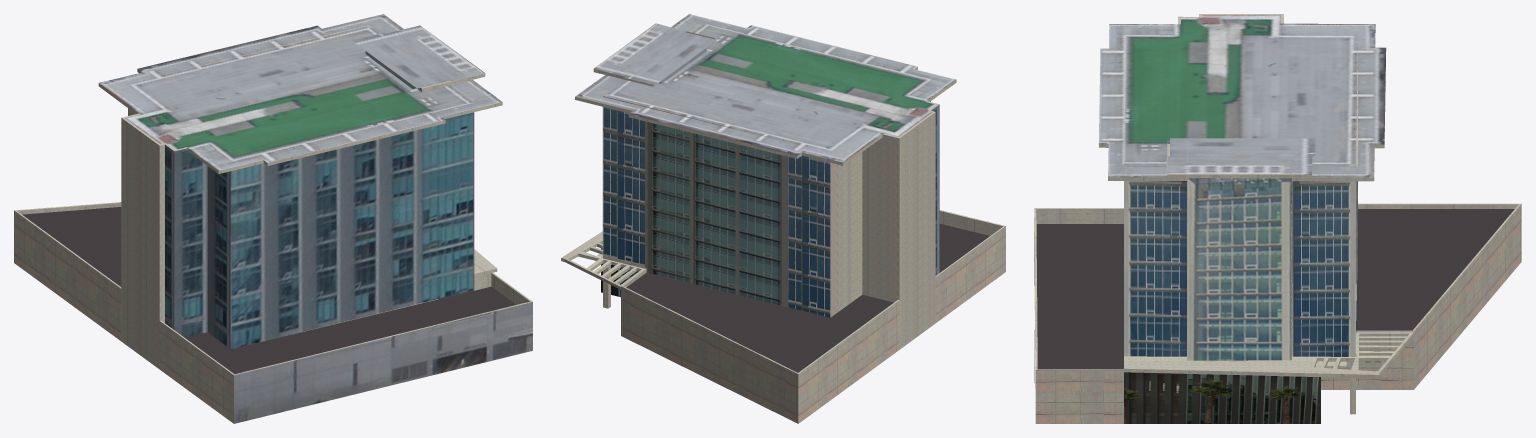
3 renders of one model, left to right at view 1: azimuth 30°, elevation 25°; view 2: azimuth 150°, elevation 25°; view 3: azimuth 270°, elevation 25°, orthographic. The views are drawn at different scales.
Parts seen in each view (by area): view 1: Object_11, Object_13, Object_12, Object_16, Object_2, Object_6; view 2: Object_13, Object_16, Object_14, Object_6, Object_7, Object_2, Object_11; view 3: Object_13, Object_2, Object_4, Object_6, Object_16, Object_9, Object_5, Object_10.
Part boxes in pixels (bbox=[...]): Object_11: bbox=[165, 112, 473, 349]; Object_13: bbox=[99, 14, 502, 170]; Object_12: bbox=[234, 302, 532, 423]; Object_16: bbox=[14, 24, 532, 375]; Object_2: bbox=[22, 207, 515, 374]; Object_6: bbox=[14, 210, 532, 423]; Object_13: bbox=[575, 14, 955, 162]; Object_16: bbox=[561, 23, 1005, 373]; Object_14: bbox=[645, 121, 787, 307]; Object_6: bbox=[621, 226, 1005, 423]; Object_7: bbox=[603, 107, 830, 317]; Object_2: bbox=[626, 224, 989, 372]; Object_11: bbox=[930, 101, 939, 275]; Object_13: bbox=[1099, 15, 1385, 177]; Object_2: bbox=[1036, 209, 1514, 369]; Object_4: bbox=[1187, 178, 1291, 360]; Object_6: bbox=[1034, 204, 1521, 423]; Object_16: bbox=[1034, 14, 1520, 414]; Object_9: bbox=[1292, 181, 1355, 356]; Object_5: bbox=[1124, 181, 1186, 356]; Object_10: bbox=[1124, 372, 1320, 423].
Size of the model in its own units: 4.07 by 2.85 by 4.91.
Materials: 15 (13 with a texture image).
